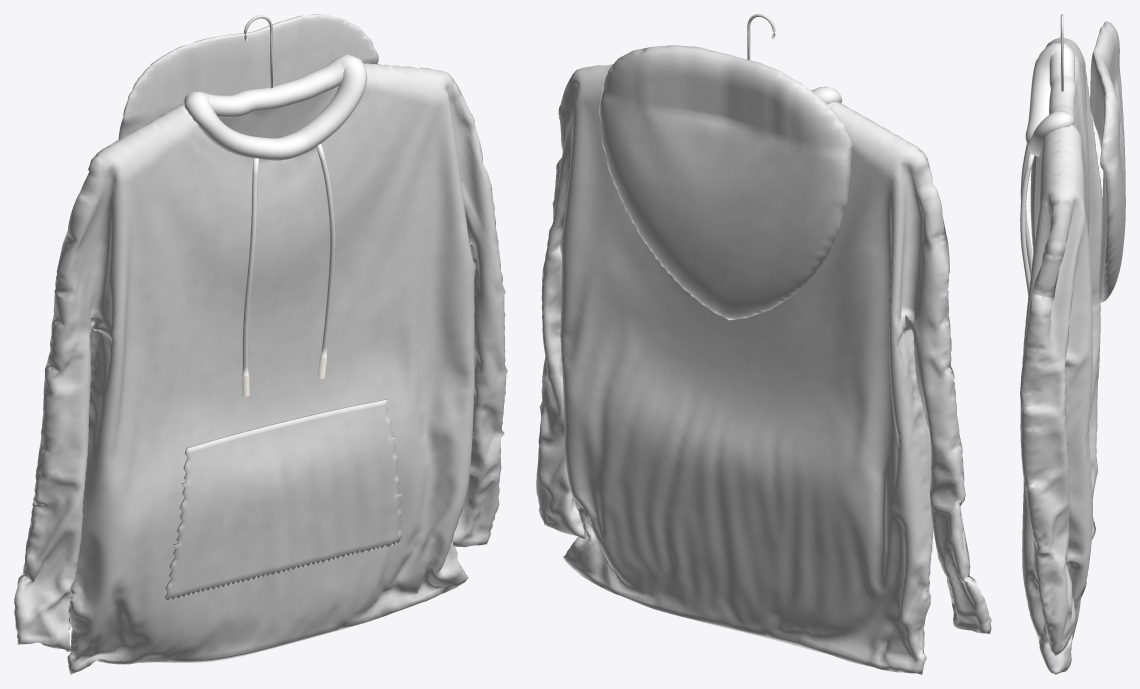
Rendered from hoodie-v2.glb.
The picture shows the model from 3 angles, left to right: view 1: azimuth 30°, elevation 25°; view 2: azimuth 150°, elevation 25°; view 3: azimuth 270°, elevation 25°; orthographic projection. The views are drawn at different scales.
Visible parts, largest first — view 1: Shirt, Pocket, Hood, HoodEdge, CordL, CordR; view 2: Shirt, Hood; view 3: Shirt, Hood, HoodEdge, CordR, CordL, HangerHook.
Part boxes in pixels (x1=…): Shirt: x1=14, y1=63, x2=507, y2=674; Pocket: x1=164, y1=399, x2=402, y2=601; Hood: x1=118, y1=14, x2=378, y2=139; HoodEdge: x1=184, y1=54, x2=367, y2=160; CordL: x1=242, y1=158, x2=258, y2=375; CordR: x1=316, y1=143, x2=335, y2=357; Shirt: x1=536, y1=64, x2=991, y2=674; Hood: x1=599, y1=45, x2=853, y2=320; Shirt: x1=1020, y1=37, x2=1102, y2=674; Hood: x1=1090, y1=21, x2=1125, y2=302; HoodEdge: x1=1025, y1=43, x2=1075, y2=156; CordR: x1=1020, y1=153, x2=1034, y2=295; CordL: x1=1020, y1=143, x2=1032, y2=274; HangerHook: x1=1060, y1=14, x2=1063, y2=91.
Bounding box in the file's own units: 0.6405 × 0.8262 × 0.1339.
Materials: 5 (1 with a texture image).
